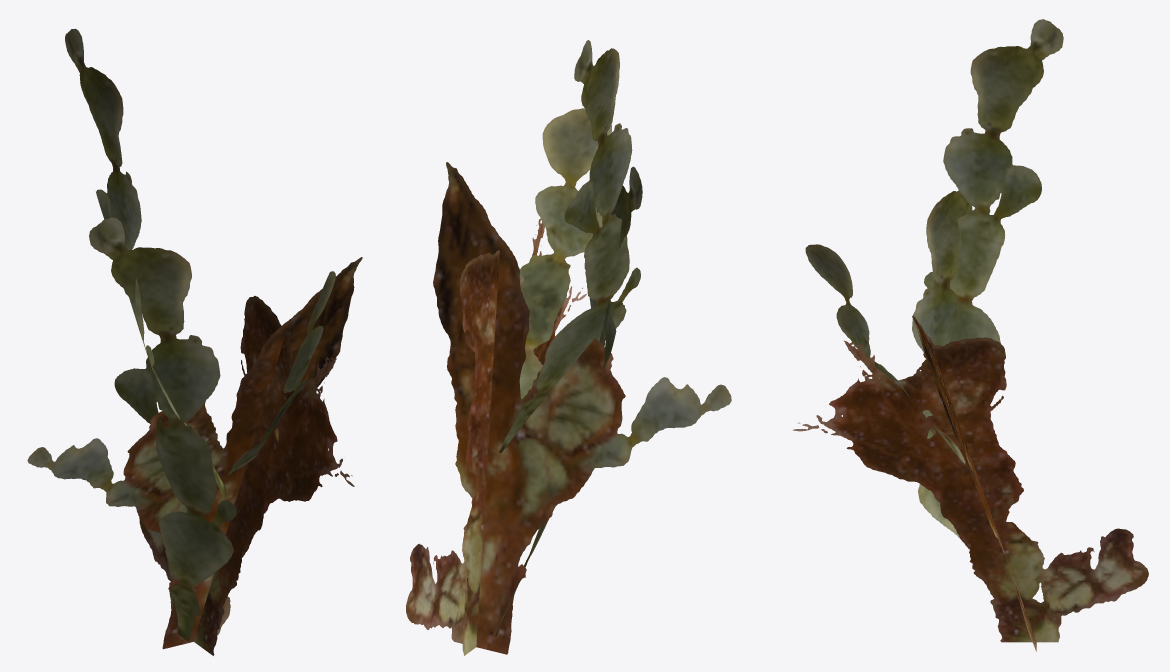
File: seaweed_3_5.FBX
The picture shows the model from 3 angles, left to right: view 1: azimuth 30°, elevation 25°; view 2: azimuth 150°, elevation 25°; view 3: azimuth 270°, elevation 25°; orthographic projection. The views are drawn at different scales.
Visible parts, largest first — view 1: seaweed_3_05; view 2: seaweed_3_05; view 3: seaweed_3_05.
Boxes of the visible parts, <box> form: seaweed_3_05: <box>27,28,362,655</box>; seaweed_3_05: <box>406,40,731,655</box>; seaweed_3_05: <box>793,19,1148,651</box>.
Size of the model in its own units: 10.46 by 19.19 by 11.39.
1 material, 1 textured.
